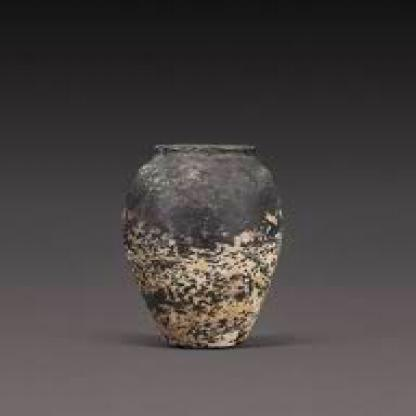Igneous_Diorite: (123, 137, 284, 348)
